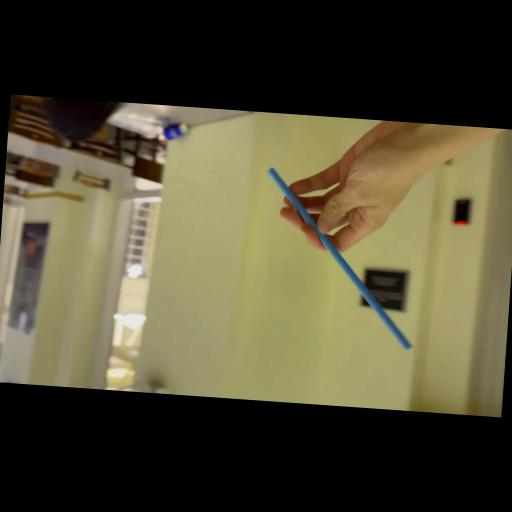straw: (258, 170, 426, 350)
